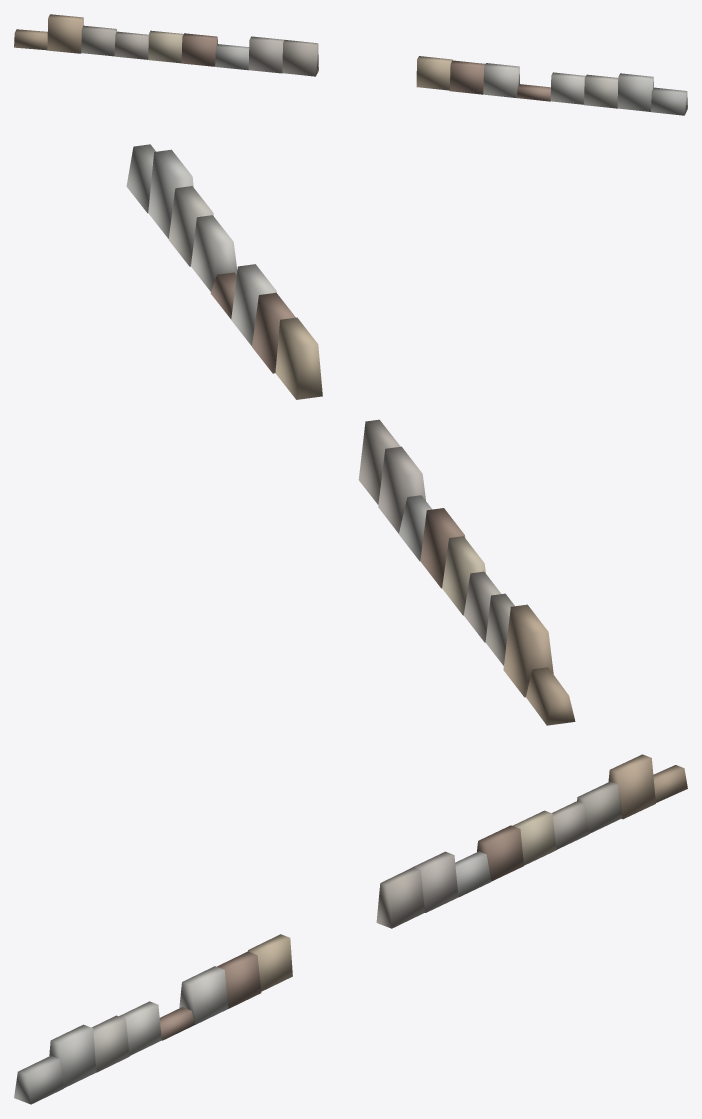
The model's file is farm_10_14_collision.glb.
The picture shows the model from 3 angles, top to bottom: view 1: azimuth 30°, elevation 25°; view 2: azimuth 150°, elevation 25°; view 3: azimuth 270°, elevation 25°; orthographic projection. The views are drawn at different scales.
Parts seen in each view (by area): view 1: geometry_0; view 2: geometry_0; view 3: geometry_0.
Boxes of the visible parts, x1,y1,x2,y2 form: geometry_0: (14,14,687,115); geometry_0: (126,144,575,725); geometry_0: (14,754,687,1104).
Size of the model in its own units: 23.12 by 1.87 by 21.07.
